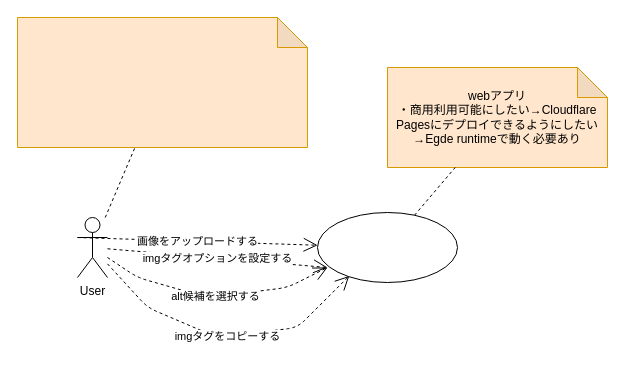
Image size: 625x369. Some labels were removed from this diagram. The box of each missing label's shape, as (x1, y1, x2, y2) in pixels:
img-generator: (316, 212, 458, 282)
画像をドラッグアンドドロップでアップロードして 生成をすると自動でAIがAltテキストを含めたimgタグをcodeタグで出力するようにする: (16, 16, 308, 148)
